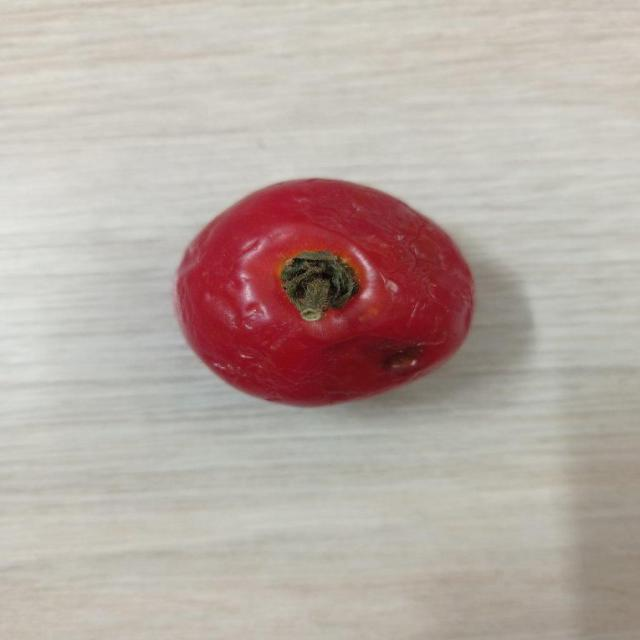Tomato: (170, 171, 485, 410)
